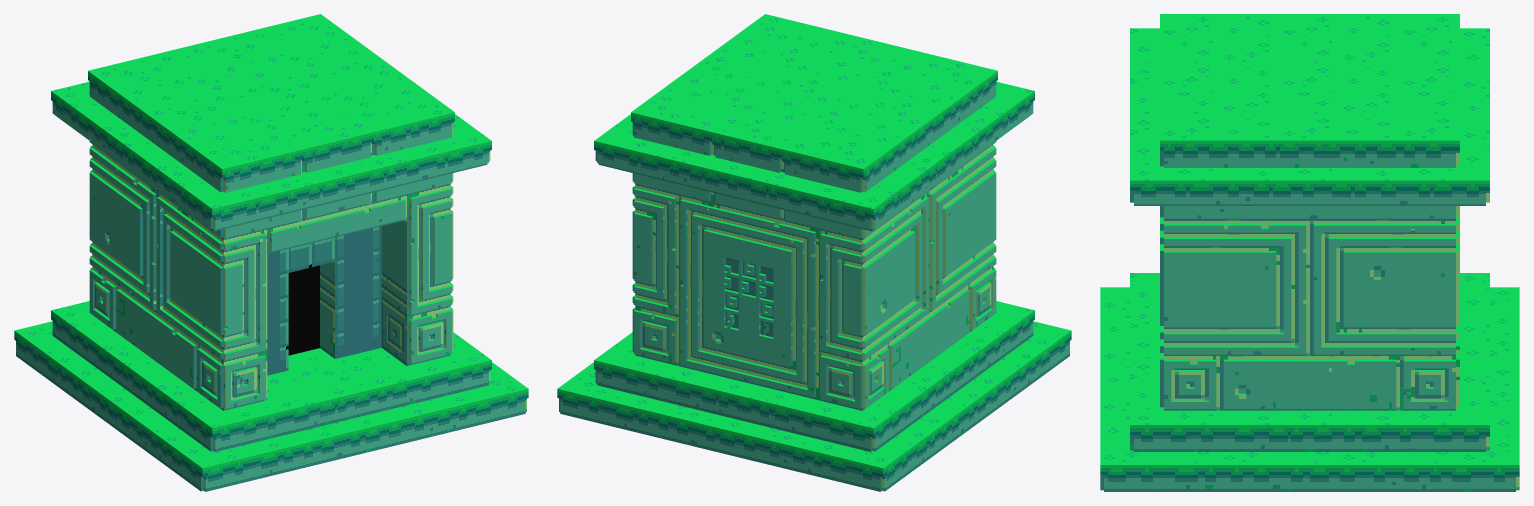
The model's file is mausoleumao.fezao.glb.
The picture shows the model from 3 angles, left to right: view 1: azimuth 30°, elevation 25°; view 2: azimuth 150°, elevation 25°; view 3: azimuth 270°, elevation 25°; orthographic projection. The views are drawn at different scales.
Parts seen in each view (by area): view 1: MAUSOLEUMAO; view 2: MAUSOLEUMAO; view 3: MAUSOLEUMAO.
Boxes of the visible parts, bbox=[...] form: MAUSOLEUMAO: bbox=[14, 14, 528, 491]; MAUSOLEUMAO: bbox=[557, 14, 1071, 491]; MAUSOLEUMAO: bbox=[1100, 14, 1519, 491].
Size of the model in its own units: 7 by 6 by 7.
Materials: 1 (1 with a texture image).
